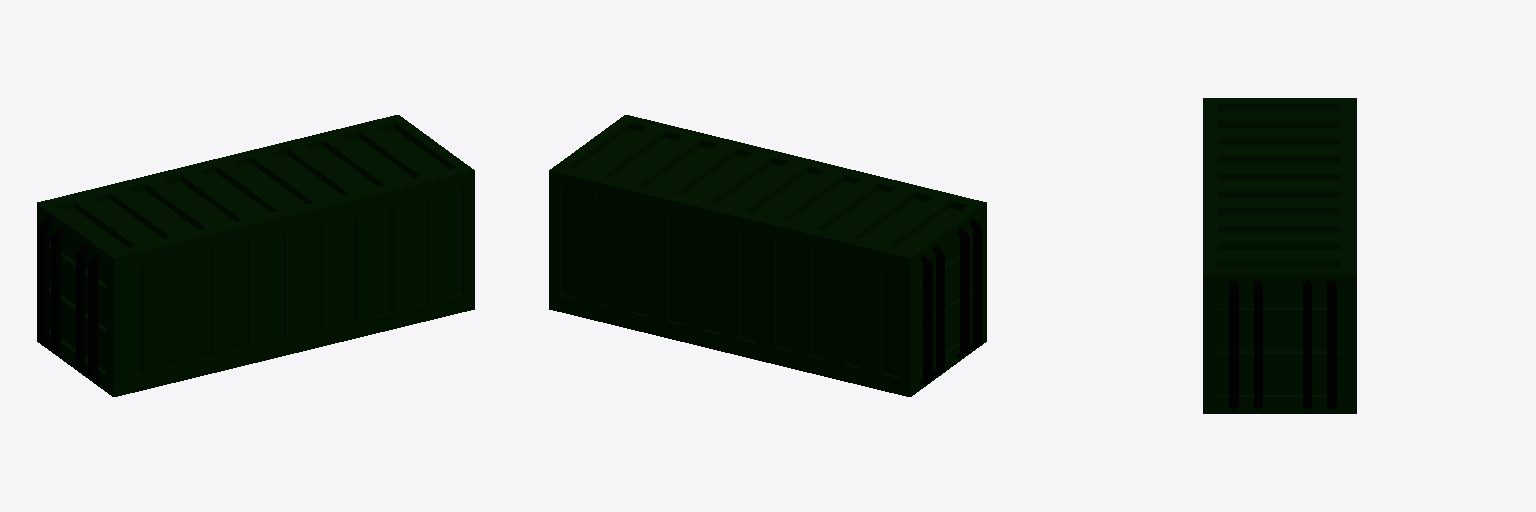
Rendered from Container_03.obj.
3 views of the same model, side by side, from view 1: azimuth 30°, elevation 25°; view 2: azimuth 150°, elevation 25°; view 3: azimuth 270°, elevation 25° (orthographic).
Visible parts, largest first — view 1: Container_03_Cylinder.008; view 2: Container_03_Cylinder.008; view 3: Container_03_Cylinder.008.
Part boxes in pixels (left/top/right/bottom): Container_03_Cylinder.008: left=37, top=115, right=474, bottom=396; Container_03_Cylinder.008: left=549, top=115, right=986, bottom=396; Container_03_Cylinder.008: left=1203, top=98, right=1356, bottom=413.
Size of the model in its own units: 17.92 by 6.25 by 6.25.